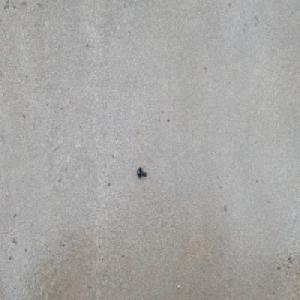BoltWasher: (136, 166, 146, 179)
